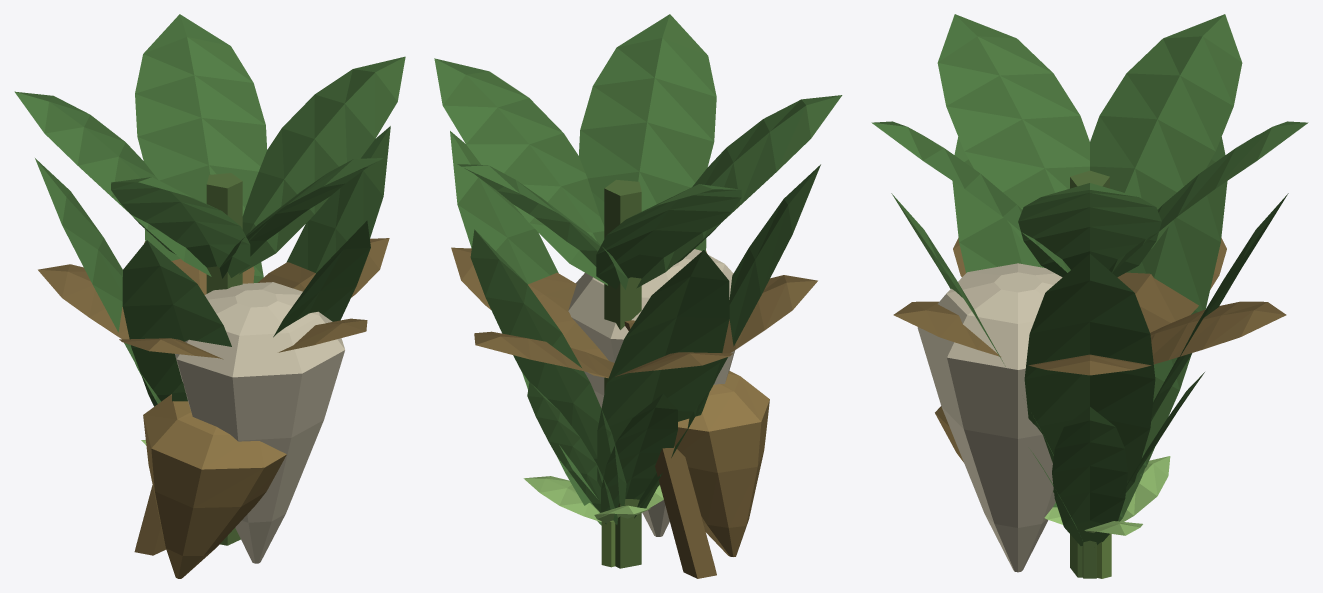
Rendered from winter_radish.glb.
3 renders of one model, left to right at view 1: azimuth 30°, elevation 25°; view 2: azimuth 150°, elevation 25°; view 3: azimuth 270°, elevation 25°, orthographic. The views are drawn at different scales.
Parts seen in each view (by area): view 1: stage3, stage2, dead; view 2: stage3, stage2, dead, stage1, stage0; view 3: stage3, stage2, dead, stage1, stage0.
Part boxes in pixels (x1,y1,x2,y2): stage3: (14,14,405,563); stage2: (35,126,390,406); dead: (38,238,389,578); stage3: (434,14,842,568); stage2: (450,131,820,507); dead: (451,247,817,578); stage1: (523,375,716,525); stage0: (523,476,663,567); stage3: (871,14,1308,577); stage2: (891,137,1288,577); dead: (893,237,1286,462); stage1: (1031,372,1204,578); stage0: (1044,456,1170,578).
Bounding box in the file's own units: 0.4342 × 0.55 × 0.4565.
